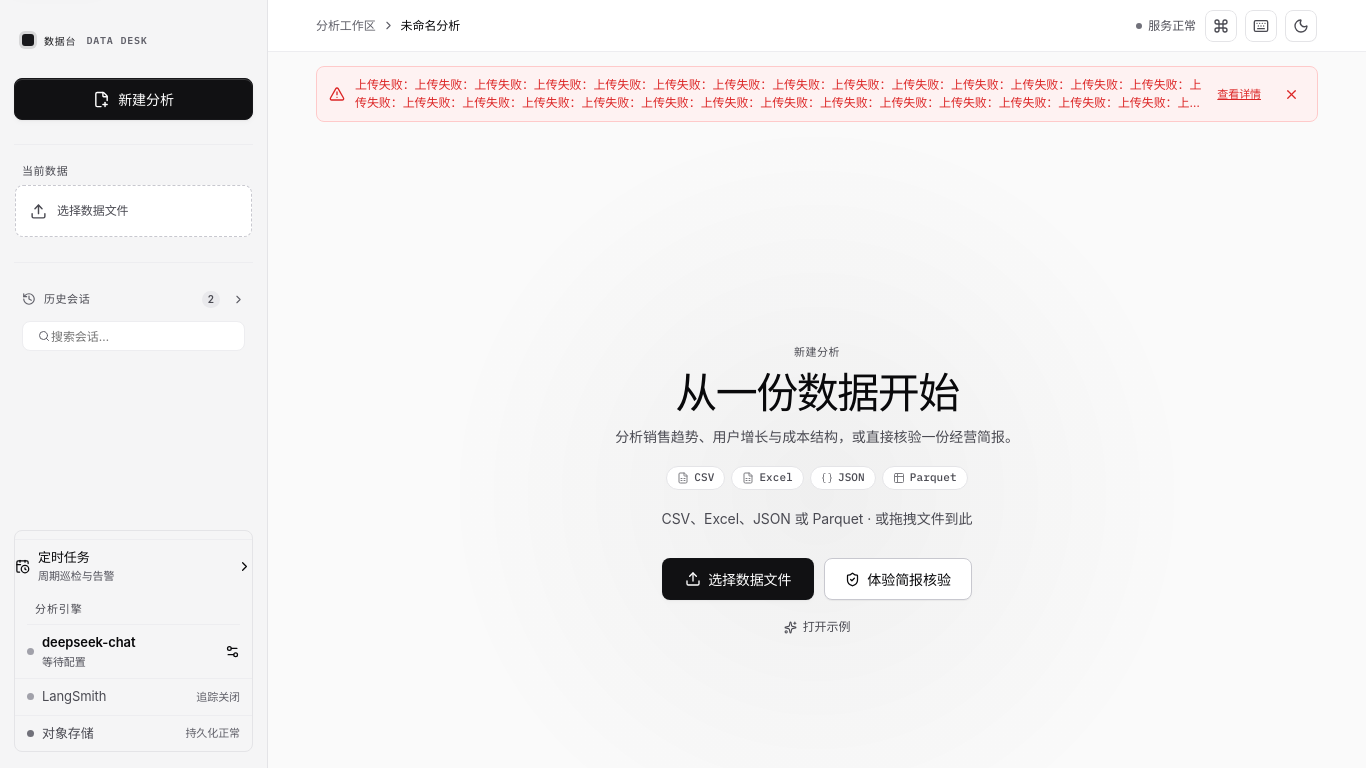
Test case: App 行为 › 错误横幅可展开/收起/关闭
The image size is (1366, 768).
Click the button "查看详情".
click(1239, 94)  # box [1211,85,1267,103]
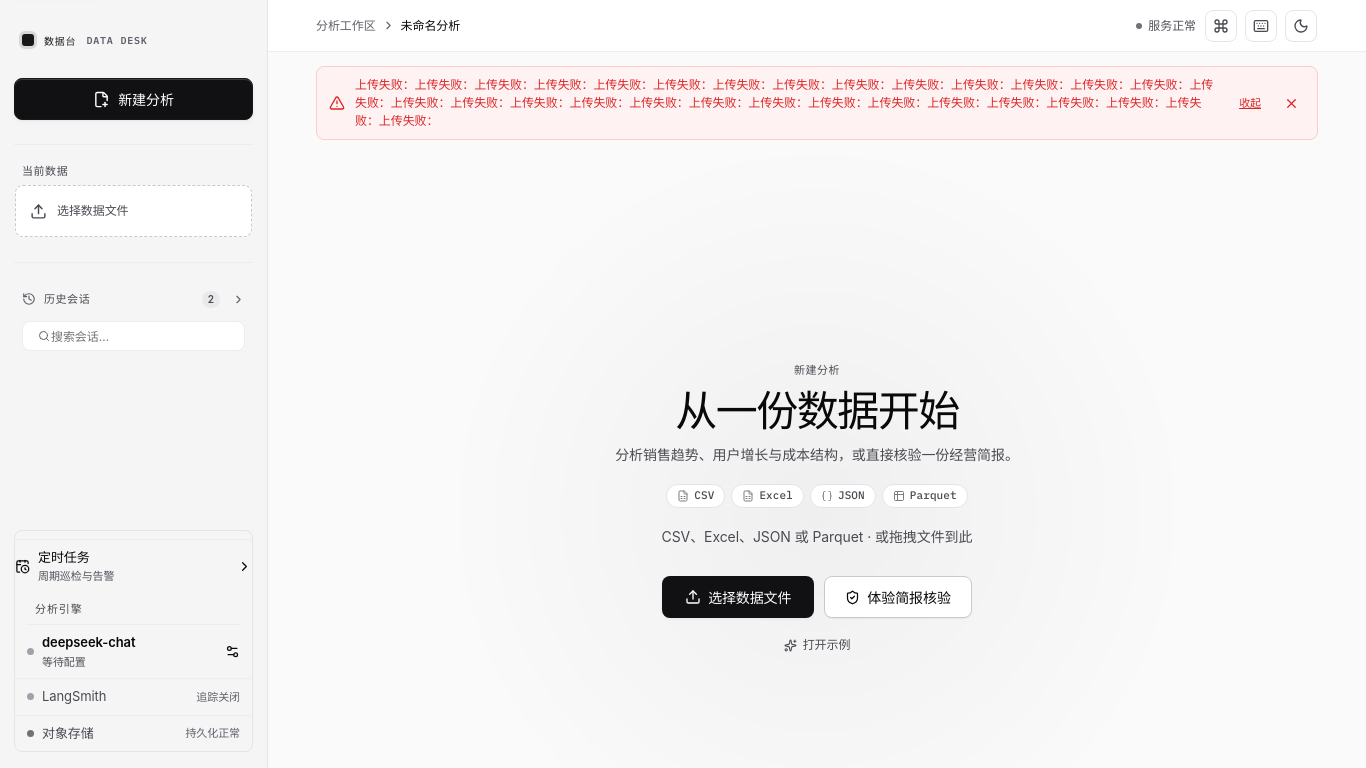
Expected: the button "收起" is shown, [1233,94,1267,112]
Click the button named "关闭错误提示".
click(1291, 103)  # box [1277,89,1305,117]
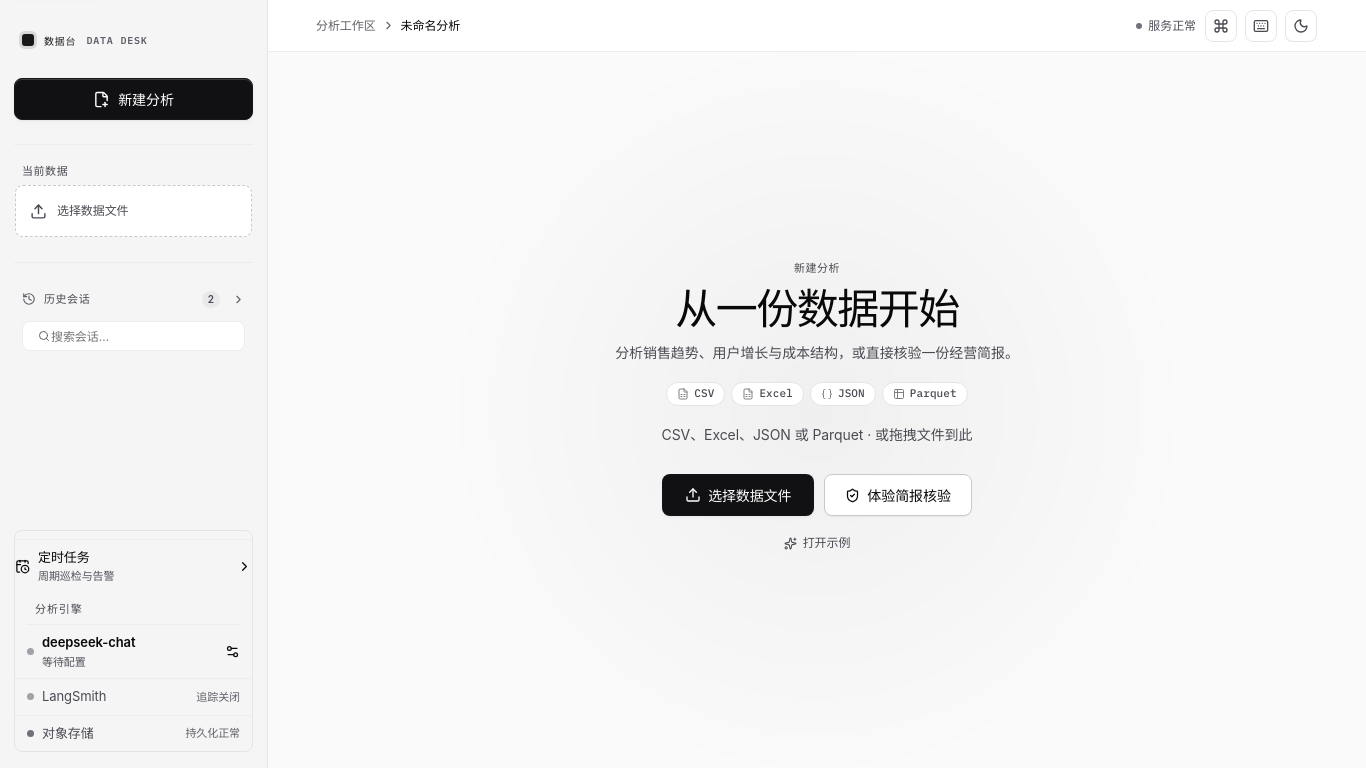
Expected: the message is gone
